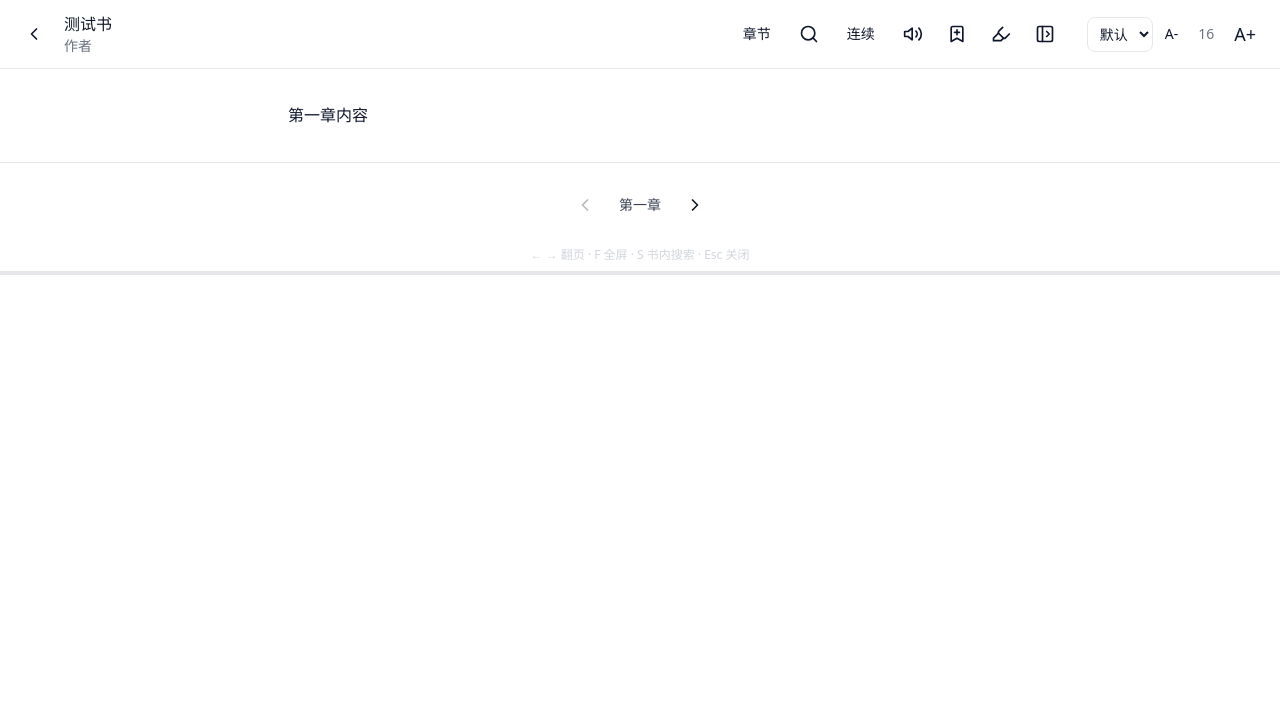
Scenario: BookReader（EPUB 特征基线） › 连续滚动模式同时渲染全部章节（净化已记忆化）
Expected: the text "第一章内容" is shown, [288, 104, 368, 126]
Click the button titled "切换为连续滚动模式": (861, 34) [835, 16, 887, 52]
(page scrolled)
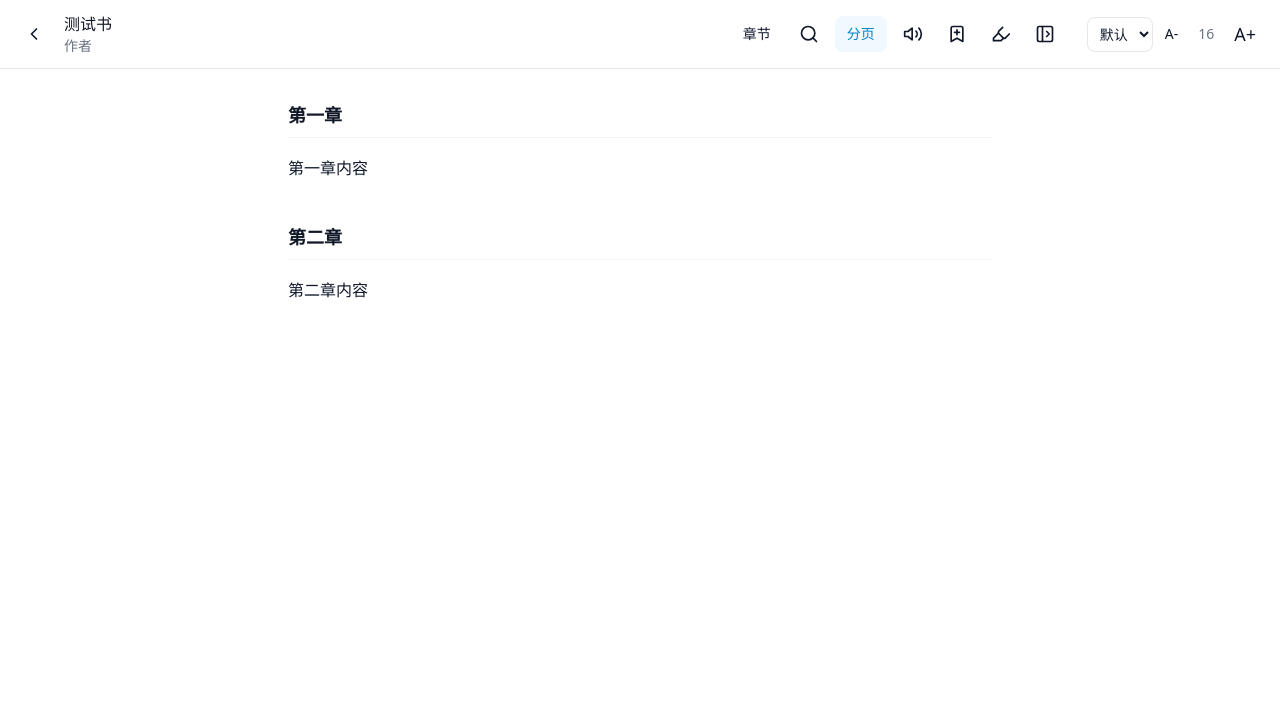
Expected: the text "第一章" is shown, [288, 101, 992, 138]
Now the heading "第二章" is shown, box [288, 223, 992, 260]
